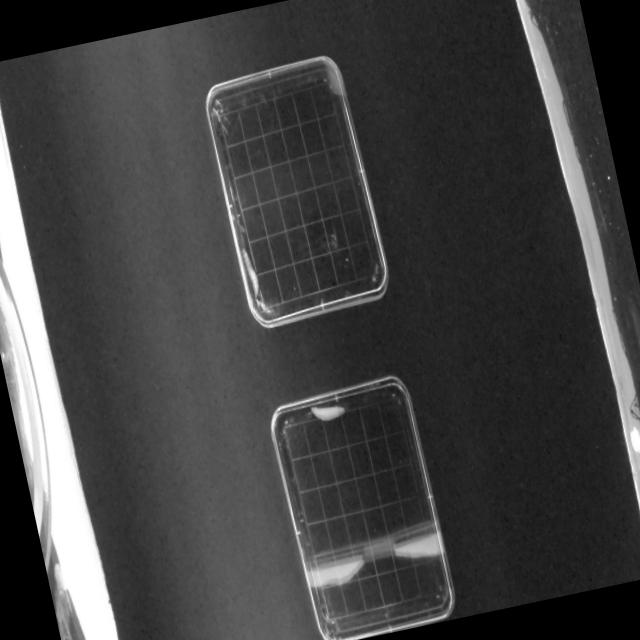larva: (241, 246, 263, 294), (309, 399, 346, 425)
